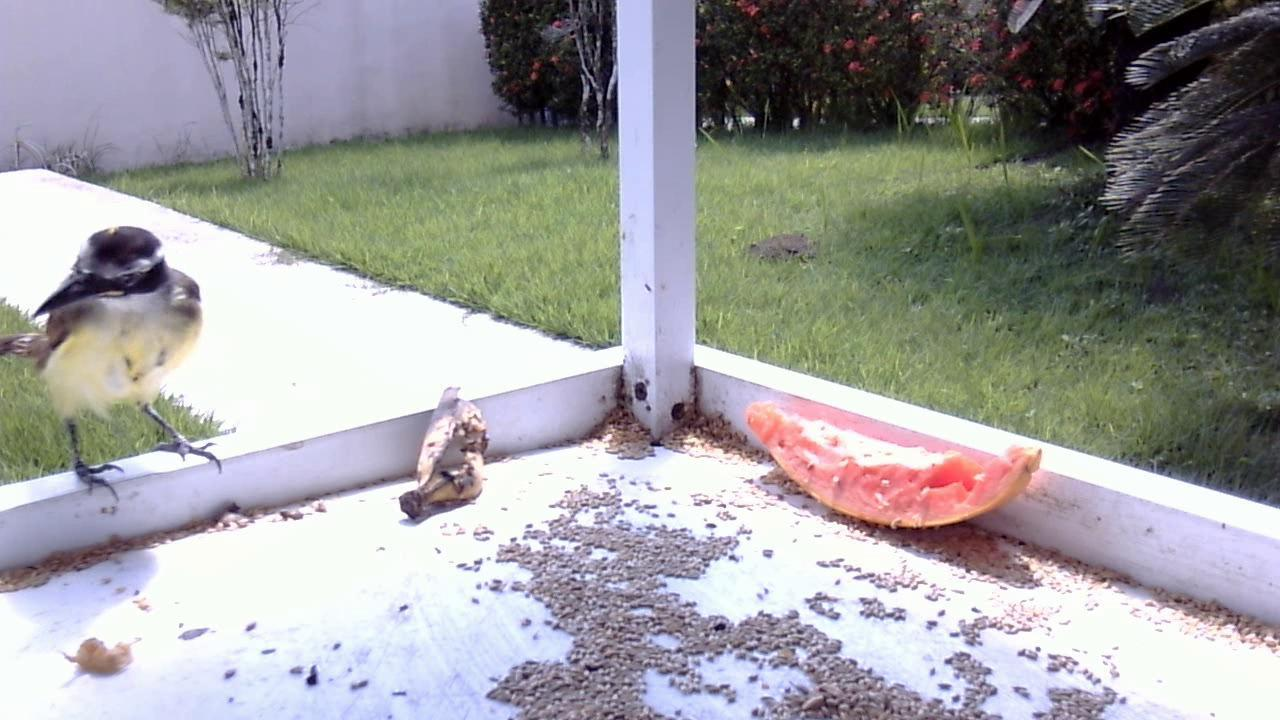bem_te_vi: (1, 215, 245, 512)
